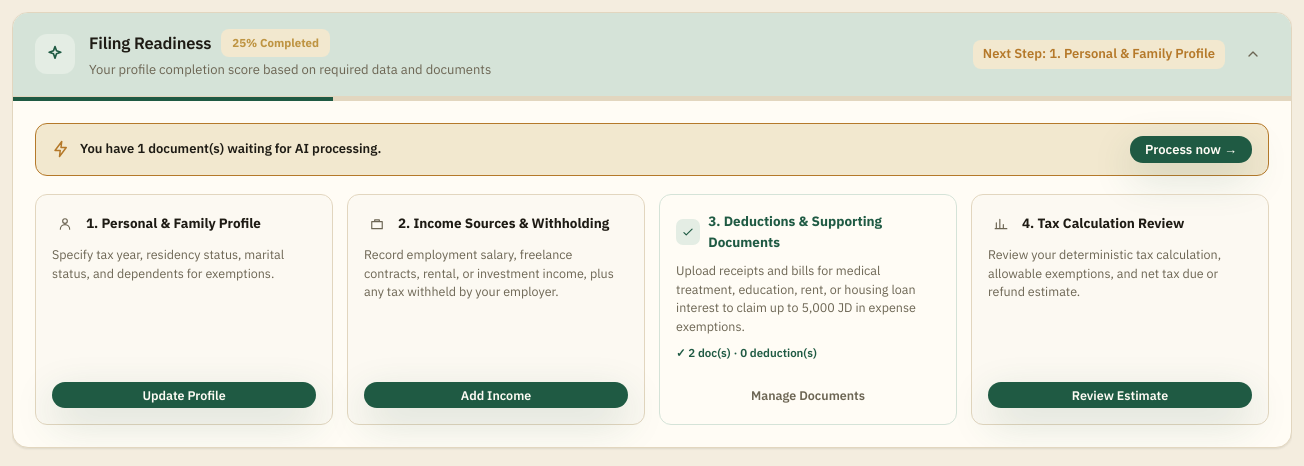
Test: Guidance Components › renders ProfileCompletionGuide showing steps progress and accessible toggle
expect the heading "Filing Readiness" is shown: met, box [89,34,211,52]
expect the text "Next Step: 1. Personal & Family Profile" is shown: met, box [973,40,1225,68]
Click the button with aria-label "Collapse".
click(55, 54)  # box [13,13,1291,97]
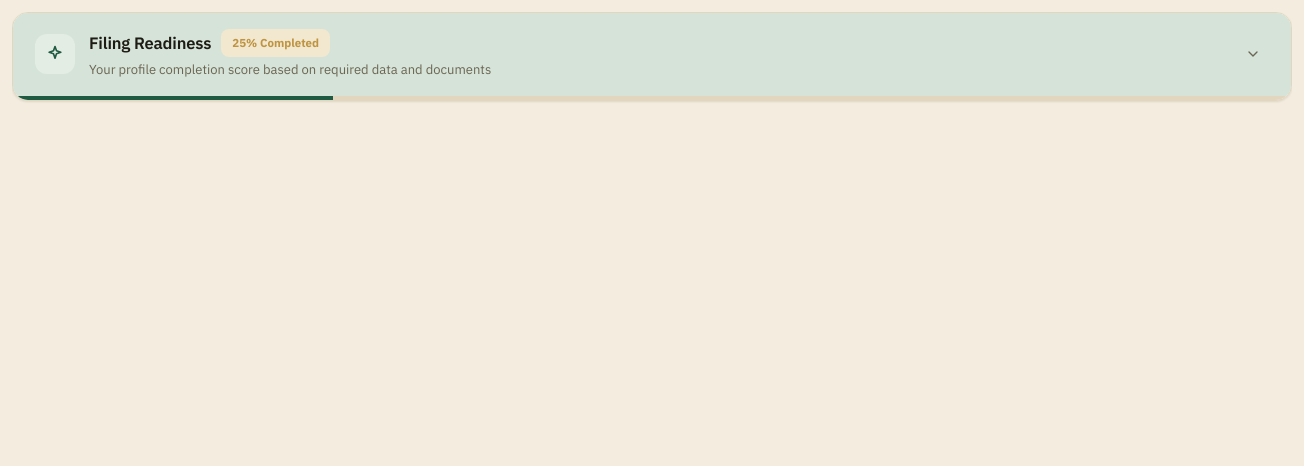
expect the button with aria-label "Expand" is collapsed: met, box [13,13,1291,96]
